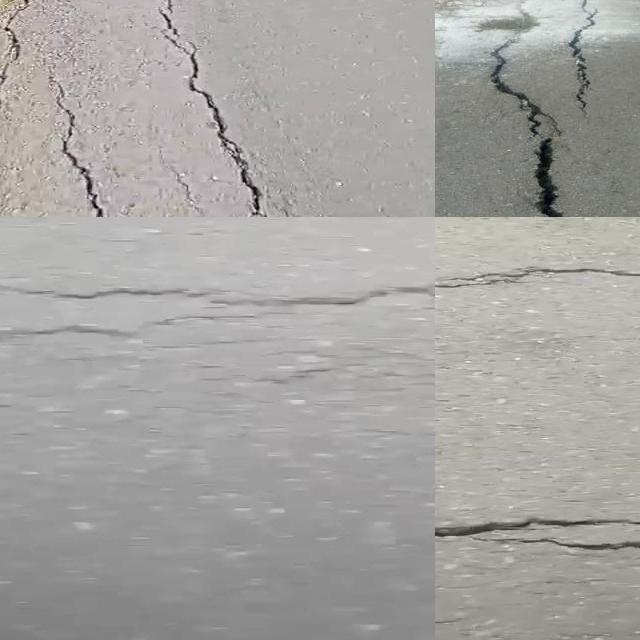Melintang: (0, 263, 435, 324), (435, 505, 640, 562), (435, 251, 640, 304)
Memanjang: (145, 0, 274, 217), (474, 24, 595, 217), (42, 80, 108, 217), (564, 0, 613, 124)
